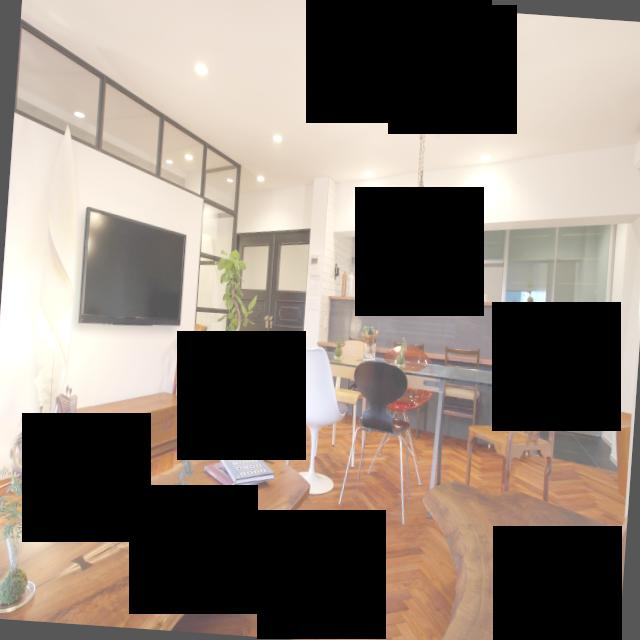vintage chair: (462, 347, 566, 498), (172, 327, 234, 435)
vintage desk: (0, 431, 315, 639)
